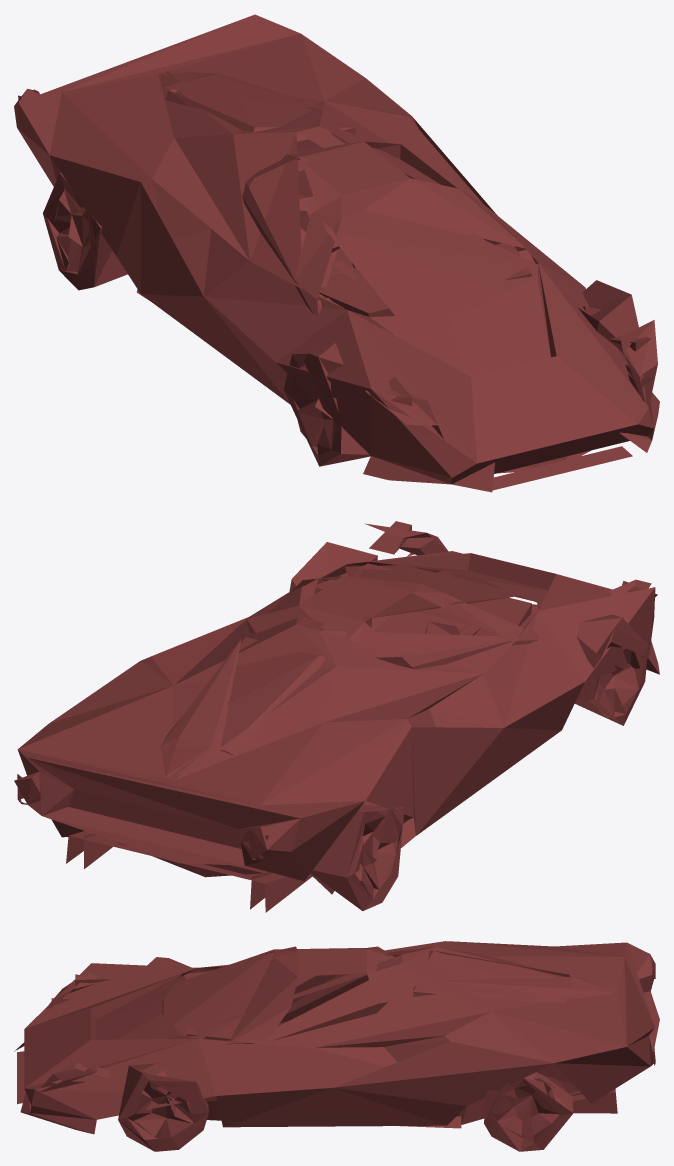
Rendered from sports-car.lod1.glb.
3 renders of one model, top to bottom at view 1: azimuth 30°, elevation 25°; view 2: azimuth 150°, elevation 25°; view 3: azimuth 270°, elevation 25°, orthographic. The views are drawn at different scales.
Visible parts, largest first — view 1: Object_2; view 2: Object_2; view 3: Object_2.
Part boxes in pixels (x1=…): Object_2: x1=14, y1=14, x2=659, y2=492; Object_2: x1=14, y1=521, x2=659, y2=912; Object_2: x1=14, y1=941, x2=659, y2=1151.
Size of the model in its own units: 1.97 by 1.08 by 4.61.
